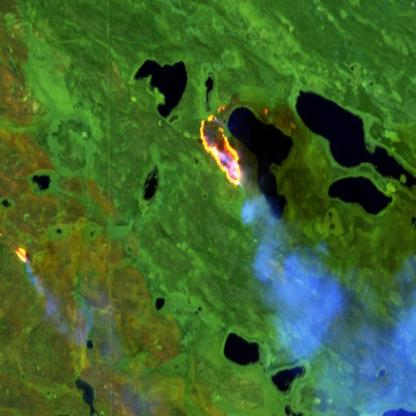fire: (196, 100, 247, 197), (13, 245, 30, 268)
